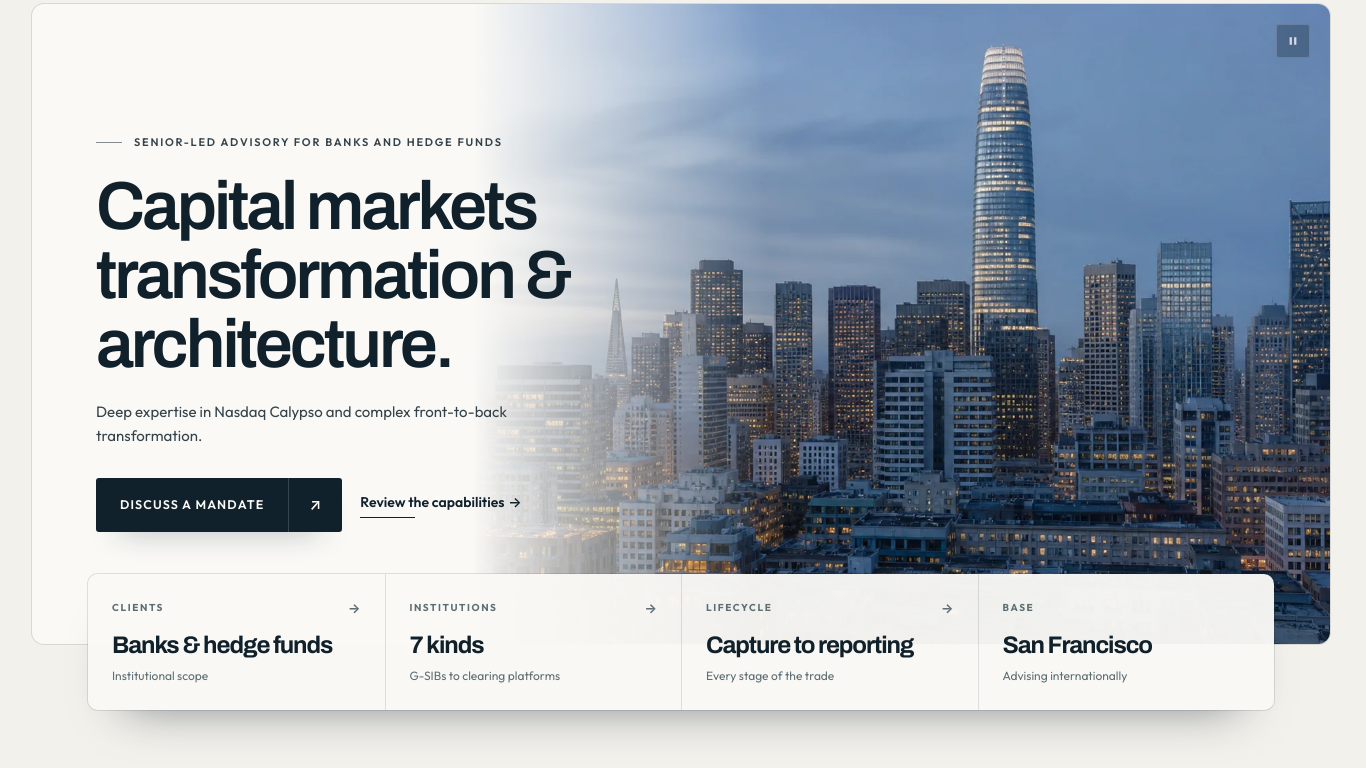
Test: Homepage › loads the loop only after mount on wide screens and lets the visitor pause it
Click the button named "Pause background video" at (1293, 41), box [1276,24,1310,58]
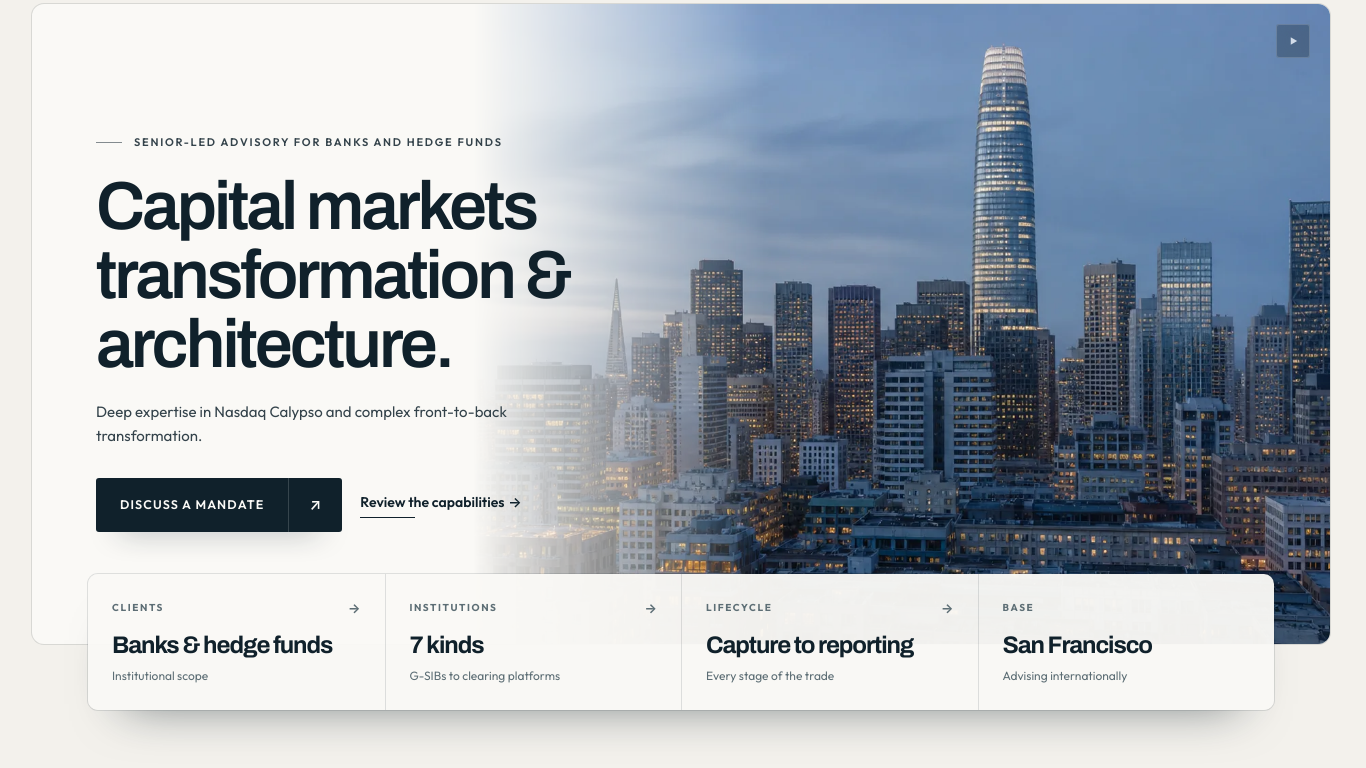
Expected: the button named "Play background video" is shown, [1276,24,1310,58]
